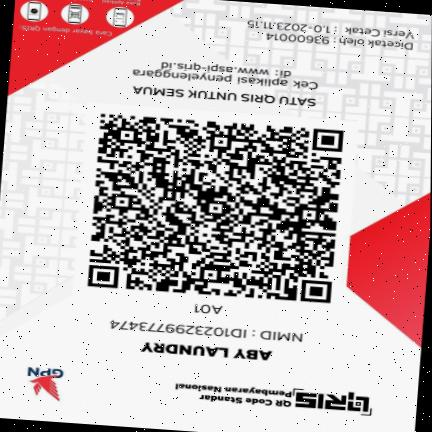Cara Pakai QRIS: (14, 0, 147, 40)
Cek Aplikasi Penyelenggara: (124, 55, 326, 93)
Dicetak Oleh: (264, 31, 419, 51)
Logo GPN: (15, 361, 76, 407)
Logo dan deskripsi QRIS: (166, 375, 383, 423)
Nama Merchant: (130, 338, 286, 366)
National Merchant ID: (100, 317, 311, 346)
QR Code: (78, 107, 350, 308)
Slogan: (122, 81, 324, 110)
Terminal ID: (191, 302, 224, 316)
Versi Cetak: (244, 19, 420, 41)
